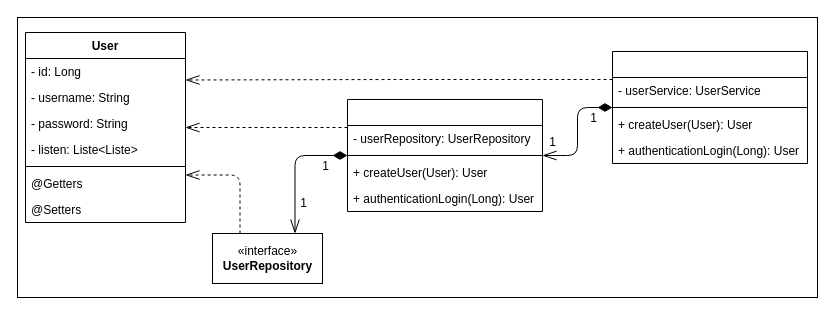
The diagram is 835 pixels wide and 315 high, and some of its shapes have lost their labels. Each missing label, with the box of its shape:
UserController: (612, 50, 808, 164)
UserService: (346, 98, 542, 212)
